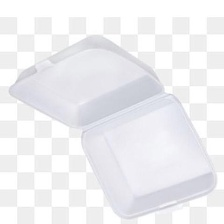foam_box: (1, 28, 224, 224)
